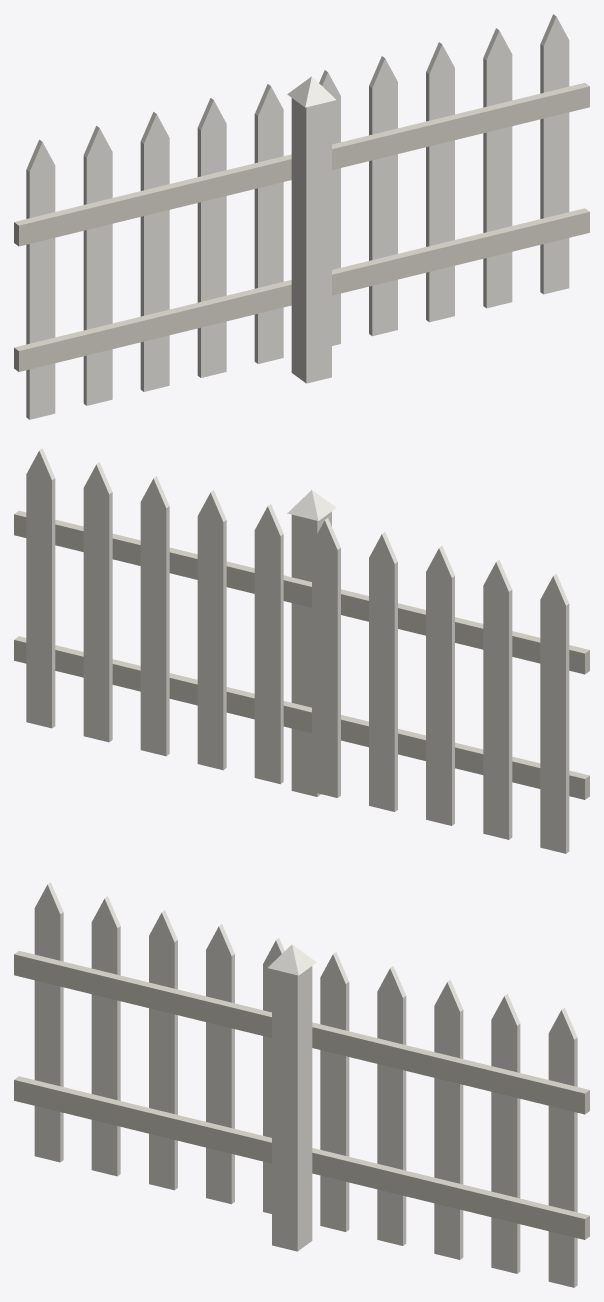
Rendered from fence_picket.glb.
The picture shows the model from 3 angles, top to bottom: view 1: azimuth 30°, elevation 25°; view 2: azimuth 150°, elevation 25°; view 3: azimuth 330°, elevation 25°; orthographic projection.
Parts seen in each view (by area): view 1: fence_picket__mesh; view 2: fence_picket__mesh; view 3: fence_picket__mesh.
Boxes of the visible parts, <box> form: fence_picket__mesh: <box>14,14,589,419</box>; fence_picket__mesh: <box>14,448,589,853</box>; fence_picket__mesh: <box>14,882,589,1287</box>.
Size of the model in its own units: 2 by 1 by 0.15.
1 material, 1 textured.
